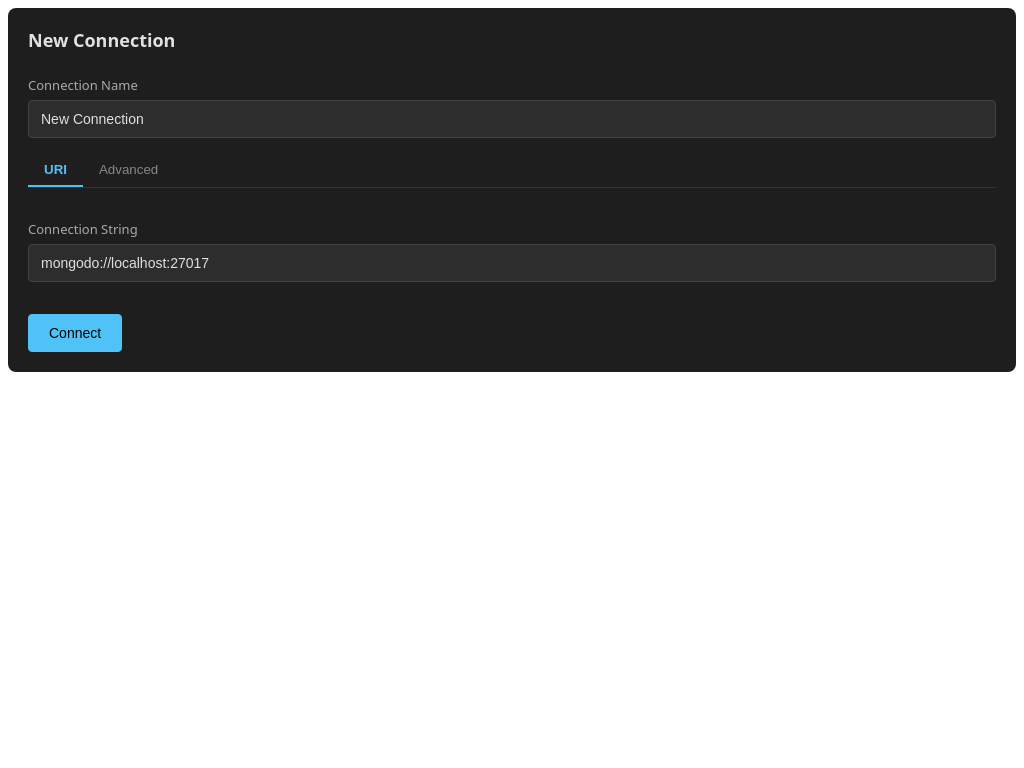
Test: ConnectionForm › basic auth fields › shows username/password fields when basic auth is selected
Click the button with test id "form-tab" at (129, 170), box [83,154,174,187]
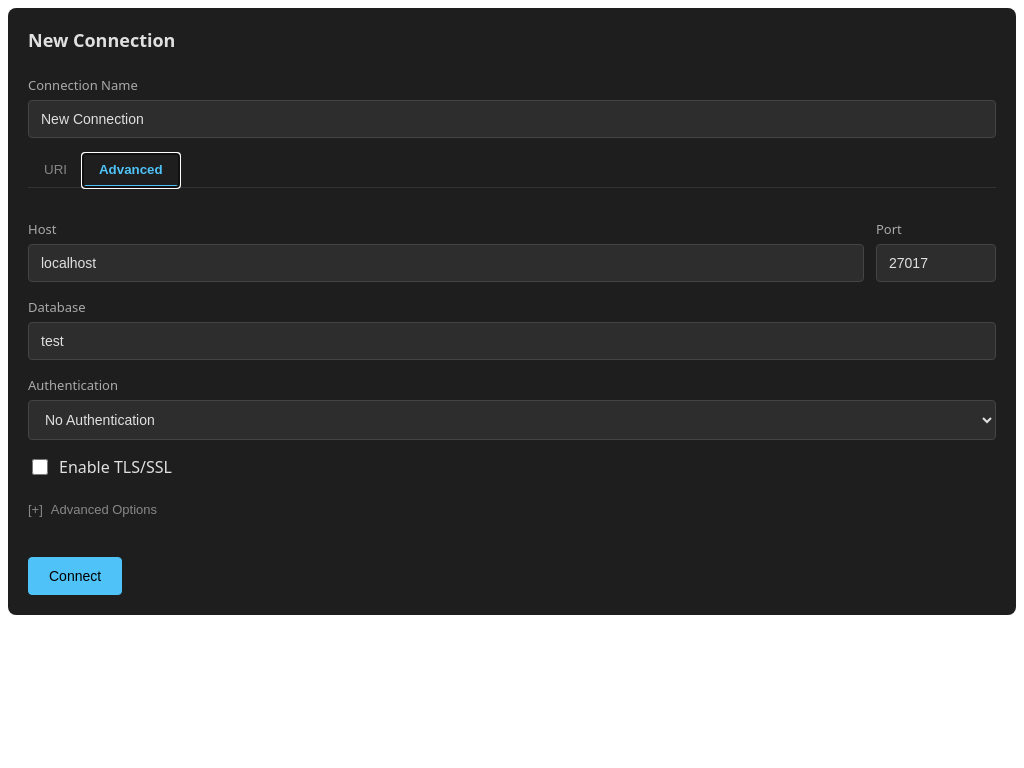
Select "Username / Password" in the dropdown with test id "connection-auth-select" at (512, 420), box [28,400,996,440]
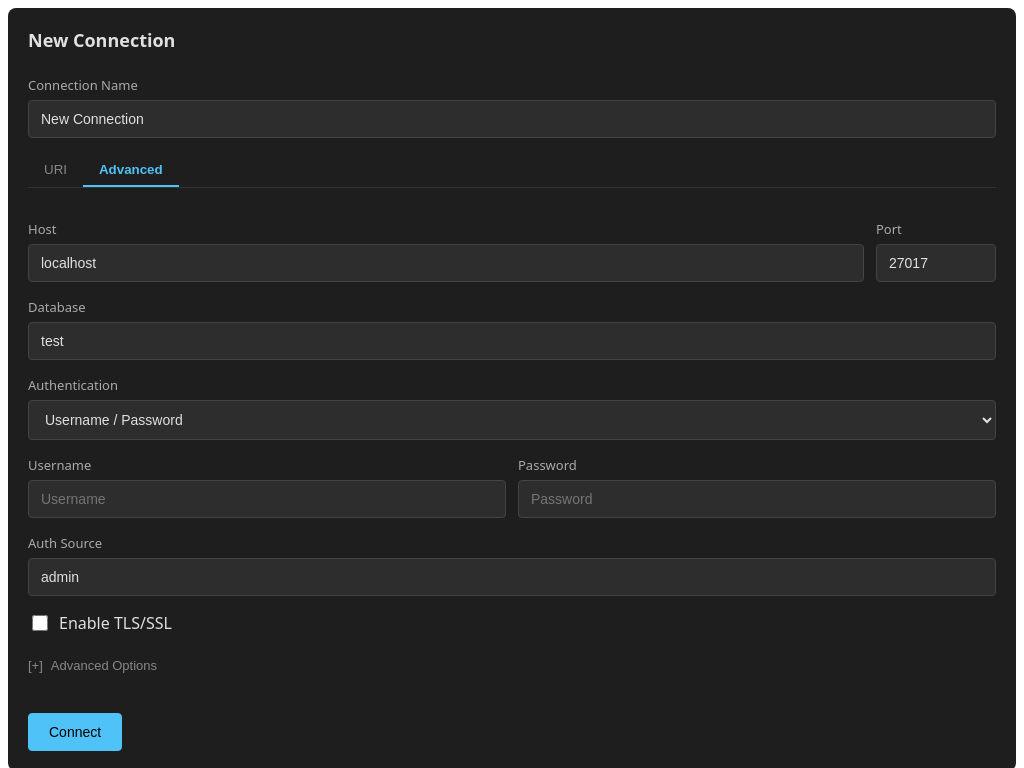
Check: the field with test id "connection-username-input" is shown, box [28,480,506,518]
Check: the password field with test id "connection-password-input" is shown, box [518,480,996,518]
Check: the field with test id "connection-authsource-input" is shown, box [28,558,996,596]
